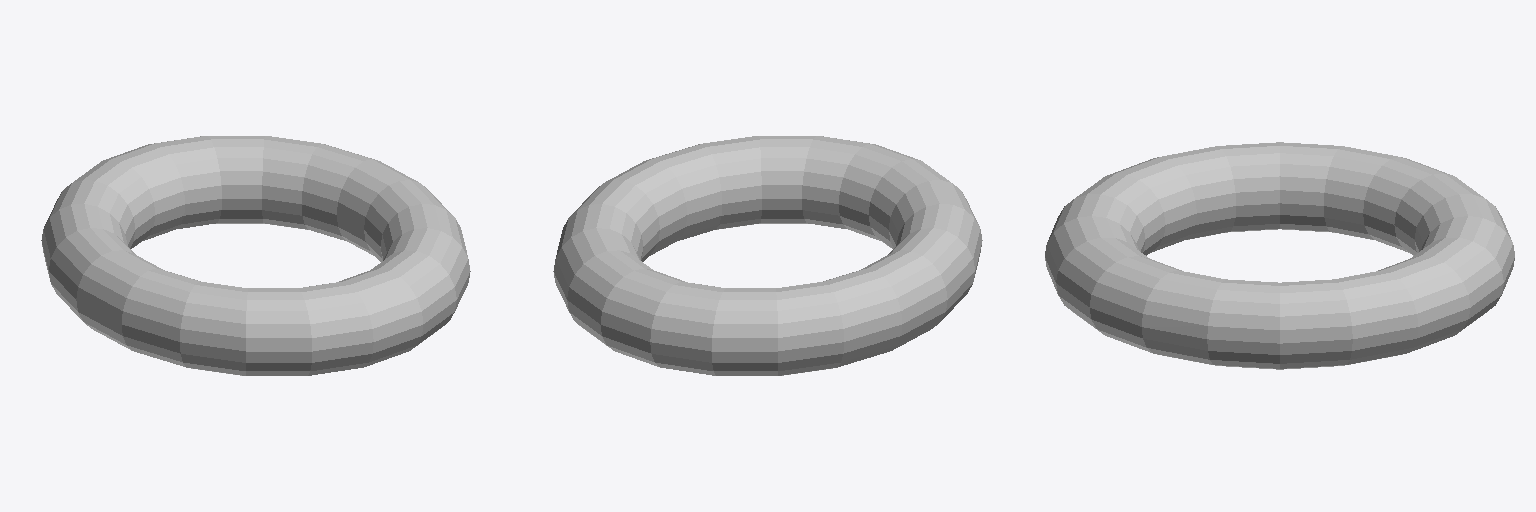
File: keyhead.obj
3 views of the same model, side by side, from view 1: azimuth 30°, elevation 25°; view 2: azimuth 150°, elevation 25°; view 3: azimuth 270°, elevation 25° (orthographic).
Visible parts, largest first — view 1: pTorus1; view 2: pTorus1; view 3: pTorus1.
Boxes of the visible parts, box(x1,y1,x2,y2) form: pTorus1: box(41, 136, 470, 375); pTorus1: box(553, 136, 982, 375); pTorus1: box(1045, 142, 1514, 369).
Size of the model in its own units: 0.2796 by 0.0596 by 0.3174.